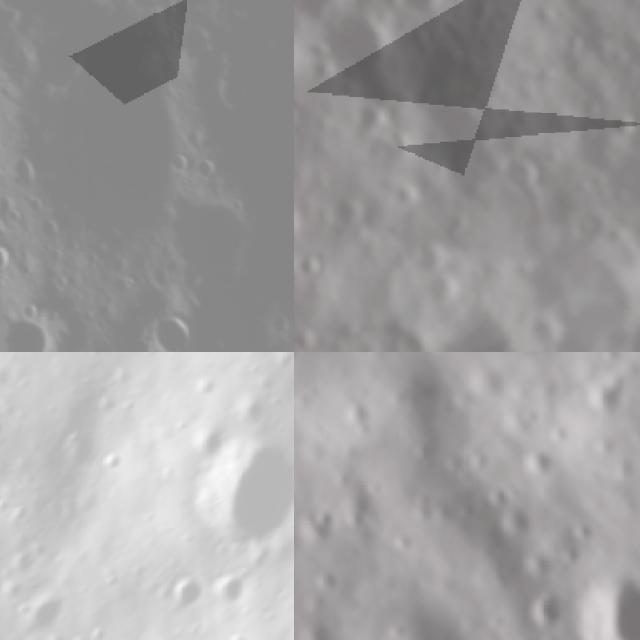crater: (521, 215, 640, 352), (192, 429, 294, 558), (314, 14, 416, 108), (552, 541, 640, 640), (568, 359, 640, 435), (513, 570, 585, 640), (511, 438, 570, 495), (4, 294, 61, 352), (407, 266, 459, 324), (300, 498, 353, 552), (12, 598, 77, 640), (394, 0, 460, 32), (182, 427, 232, 469), (307, 560, 352, 606), (522, 308, 568, 352), (152, 309, 198, 352), (599, 100, 640, 145), (168, 574, 206, 620), (211, 573, 249, 616), (294, 248, 332, 285), (3, 551, 42, 582), (103, 453, 131, 480), (0, 228, 9, 270)
